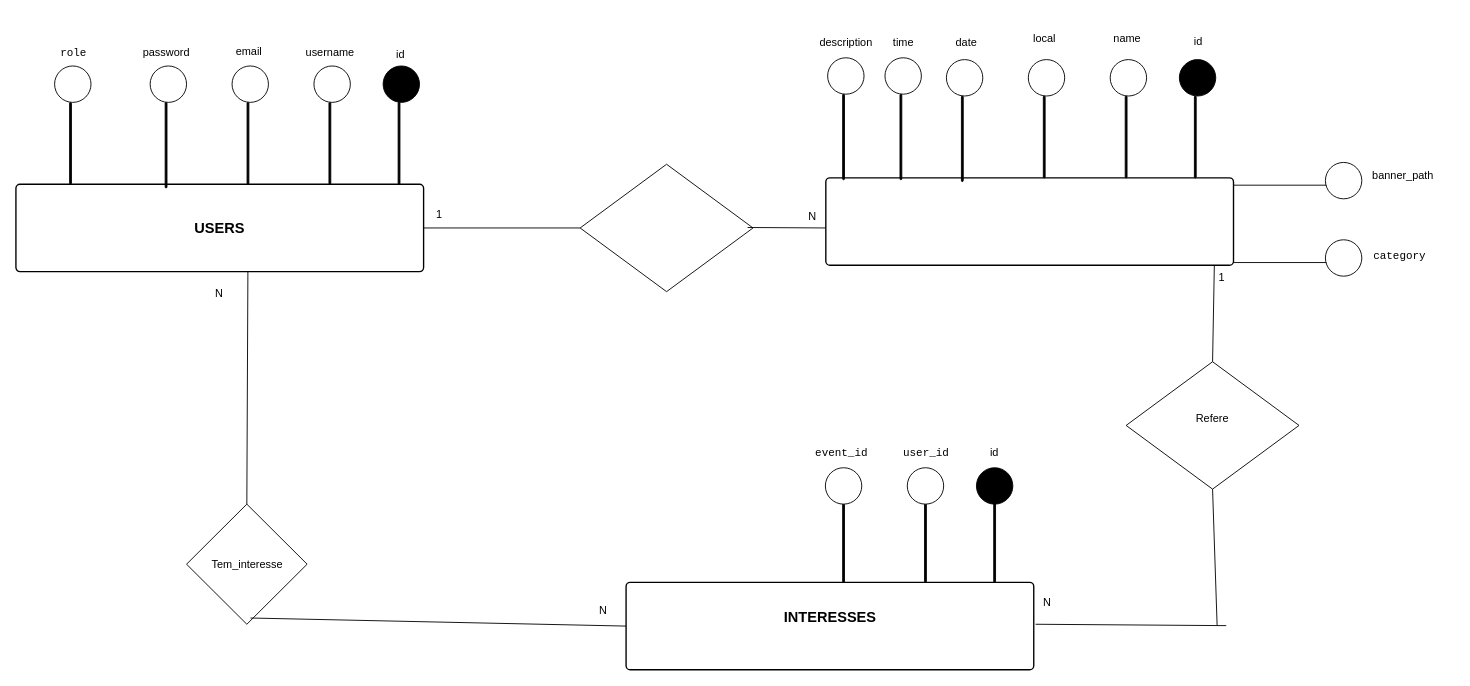
Some shapes in this 1470 by 686 pixel diagram are drawn without their labels. The shapes that lost their labels are listed below. From the top down, each one's box as (x1, y1, x2, y2) in pixels, then its label:
(579, 163, 753, 292): Cria
(825, 177, 1234, 266): EVENTS
